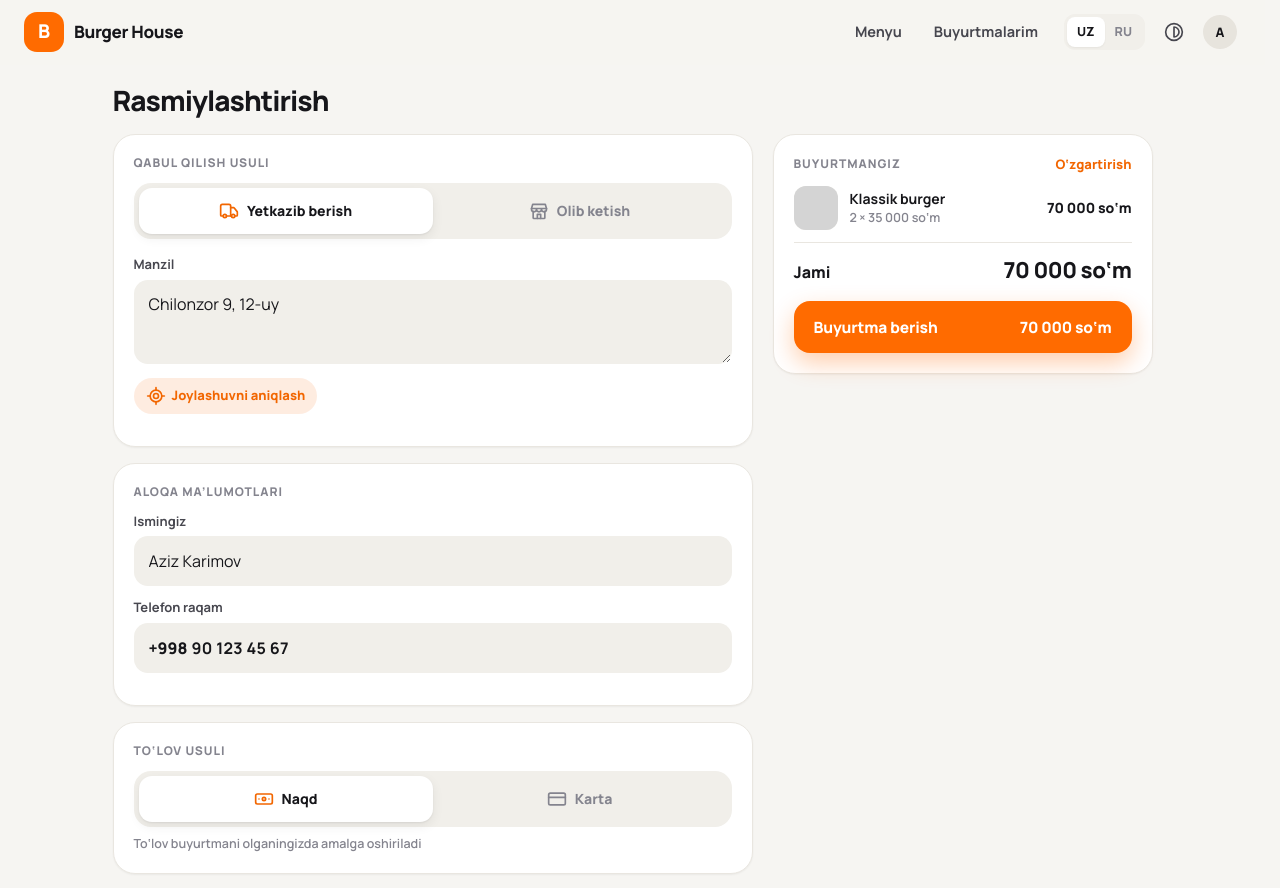
Test: checkout › validates required fields before sending anything
The width and height of the screenshot is (1280, 888).
Check: the heading "Rasmiylashtirish" is shown, box [112, 83, 328, 118]
Clear the field labelled "Ismingiz". click: [432, 561]
box: [134, 536, 732, 586]
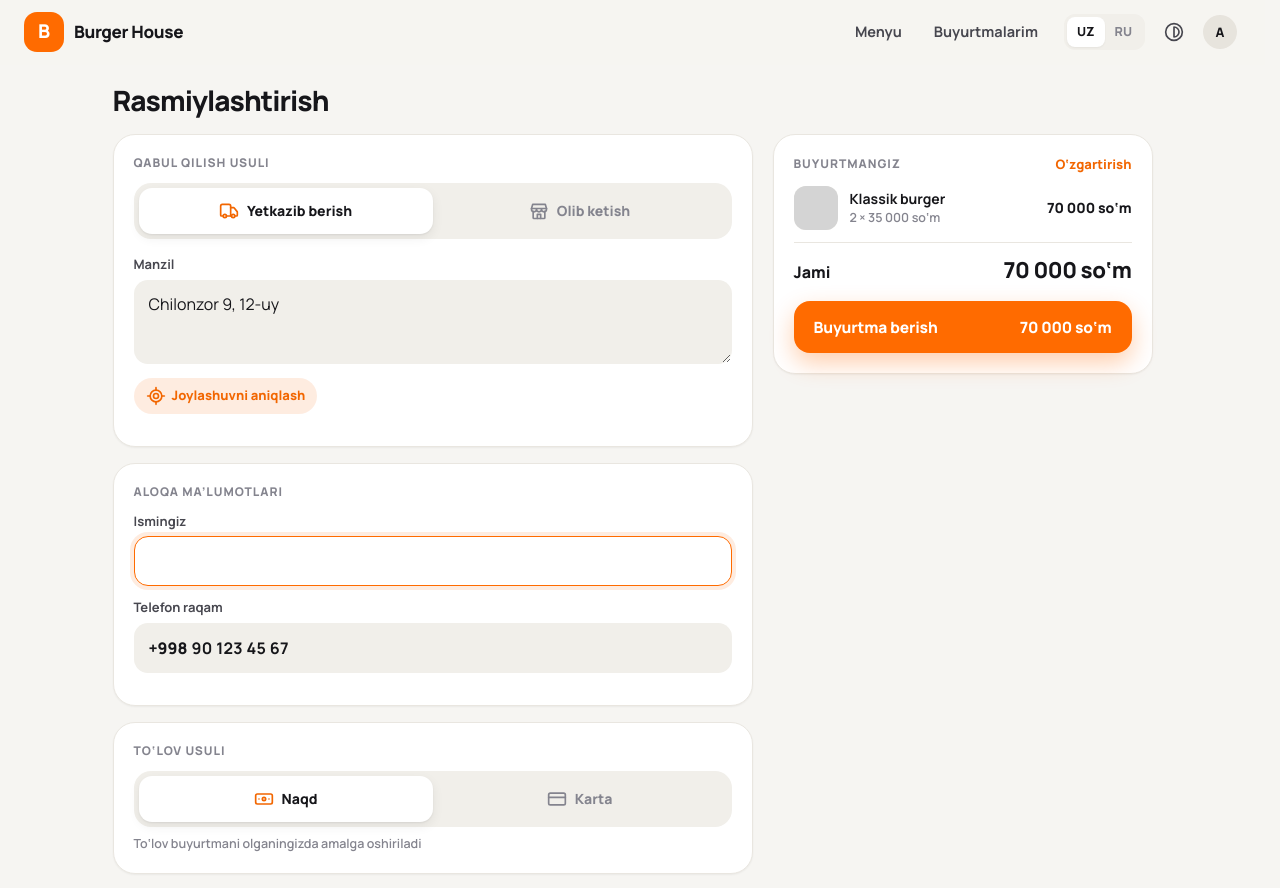
Clear the text box labelled "Manzil". click: [432, 322]
box: [134, 280, 732, 364]
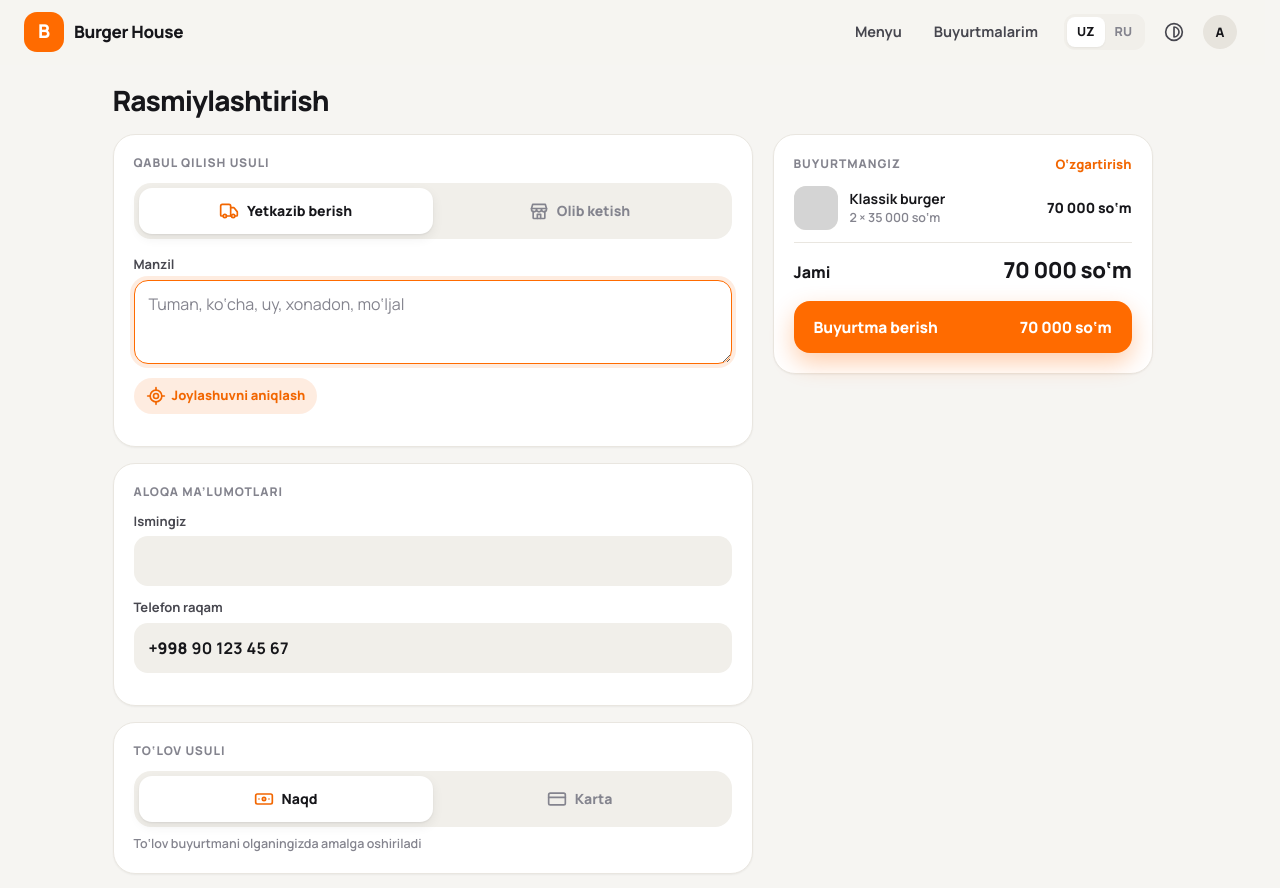
Type "90 12" into the field labelled "Telefon raqam". click: [461, 648]
box: [192, 624, 730, 672]
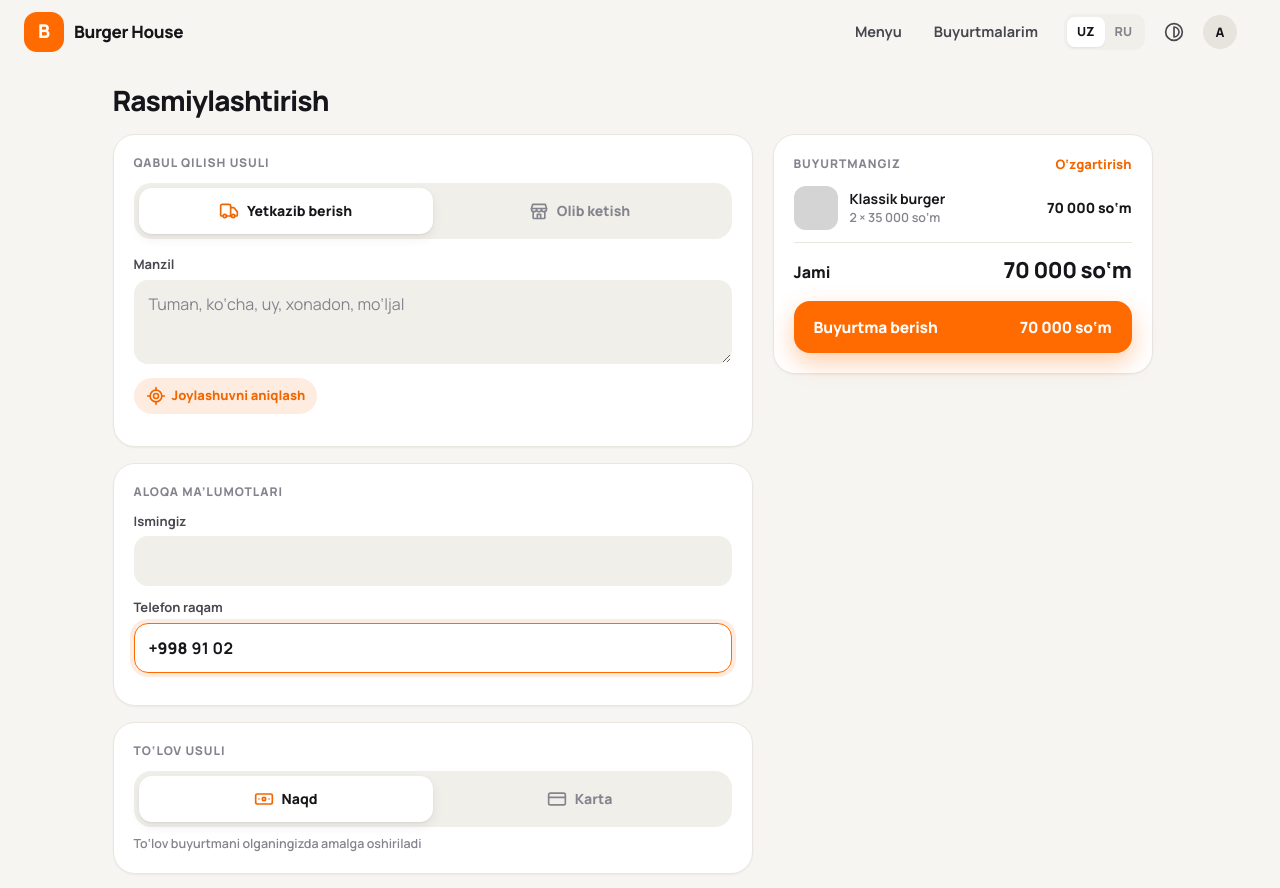
Click the button "Buyurtma berish 70 000 so‘m". click: [876, 326]
box: [794, 301, 1132, 353]
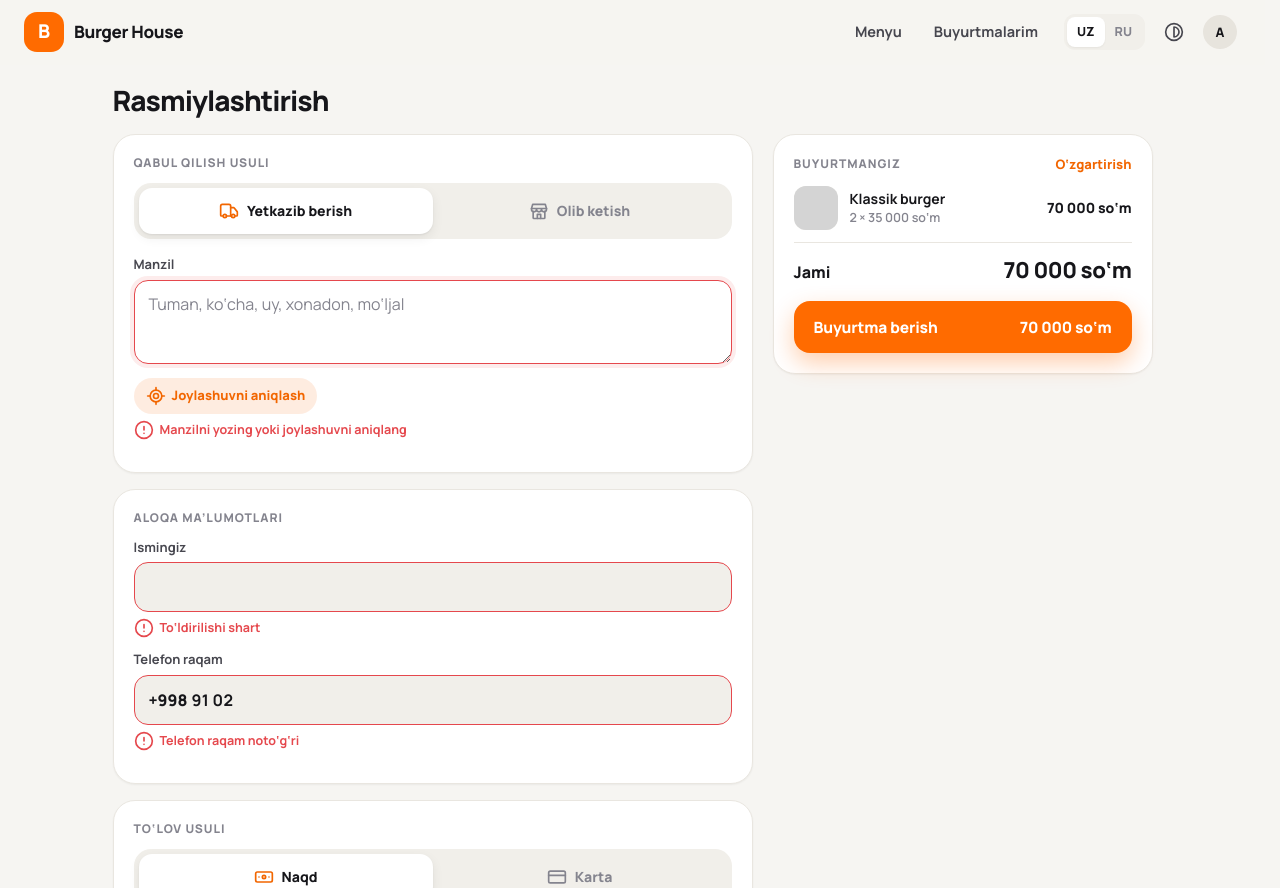
Check: the text "To‘ldirilishi shart" is shown, box [134, 618, 260, 638]
Check: the text "Telefon raqam noto‘g‘ri" is shown, box [134, 731, 299, 751]
Check: the text "Manzilni yozing yoki joylashuvni aniqlang" is shown, box [134, 420, 407, 440]
Typing fixes the field and clears its error.
Type "Aziz" into the field labelled "Ismingiz". click: [432, 587]
box: [134, 562, 732, 612]
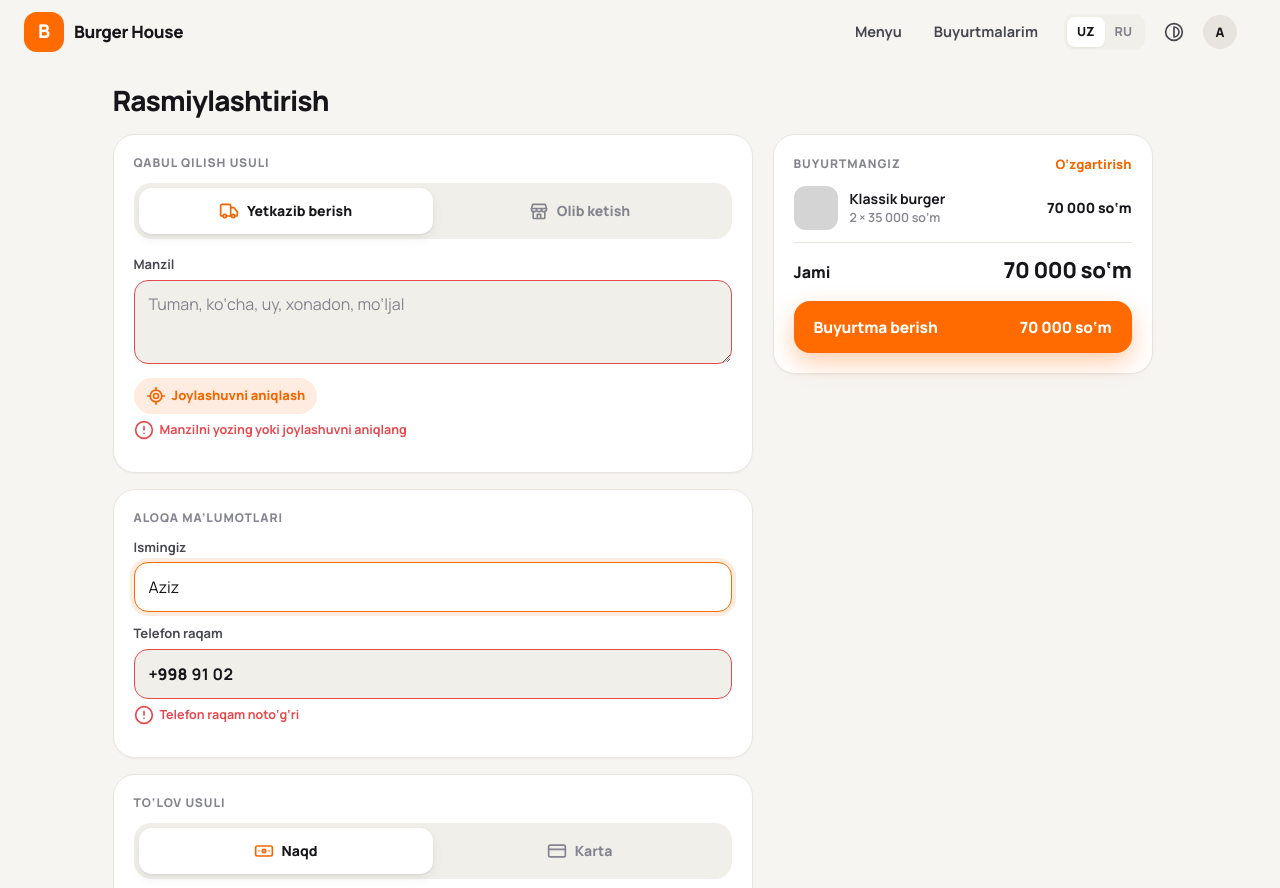
Check: the text "To‘ldirilishi shart" is gone
